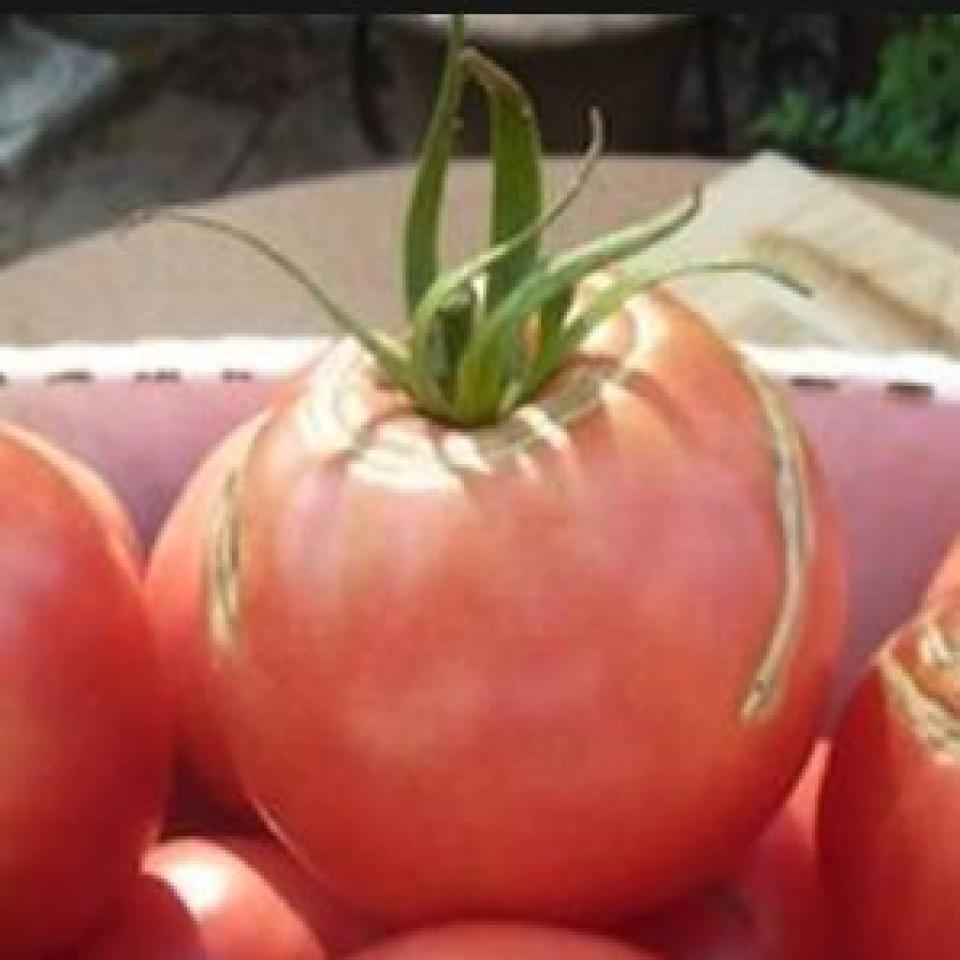Cracking: (464, 234, 721, 476), (700, 317, 818, 787), (290, 306, 534, 494), (196, 433, 290, 708), (856, 614, 957, 774)
